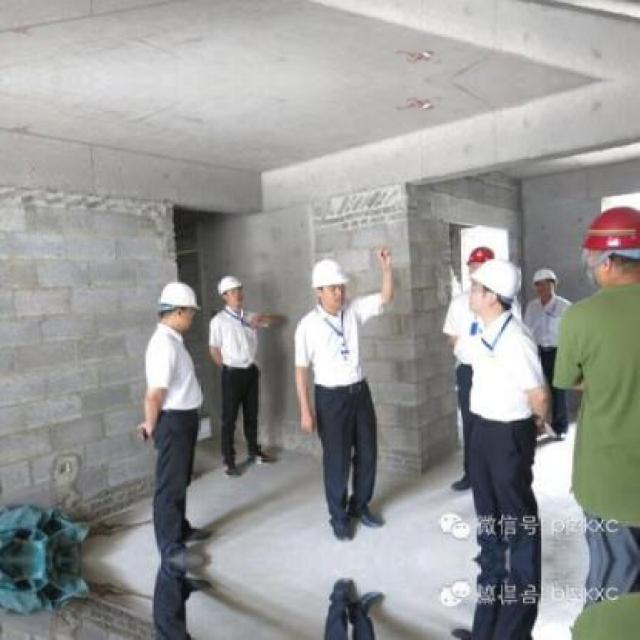helmet: (575, 201, 637, 300), (465, 258, 523, 320), (152, 275, 205, 334), (308, 252, 354, 311), (212, 272, 246, 309), (462, 244, 495, 282), (528, 266, 558, 300)
